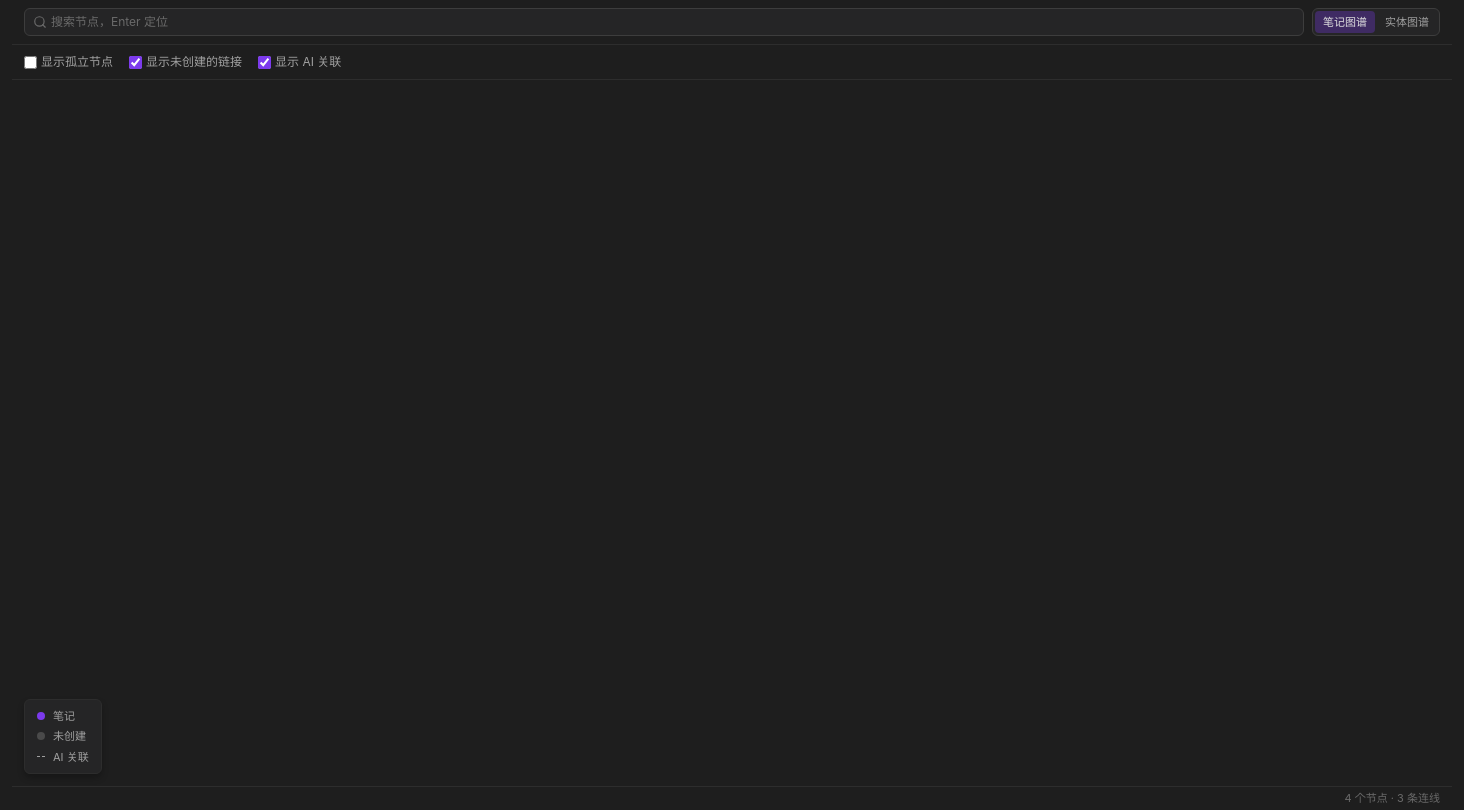
Test: KnowledgeGraph › 全局图谱的筛选开关
Step 1. Click the checkbox labelled "显示 AI 关联" → (264, 62), box 258,56 -> 271,68
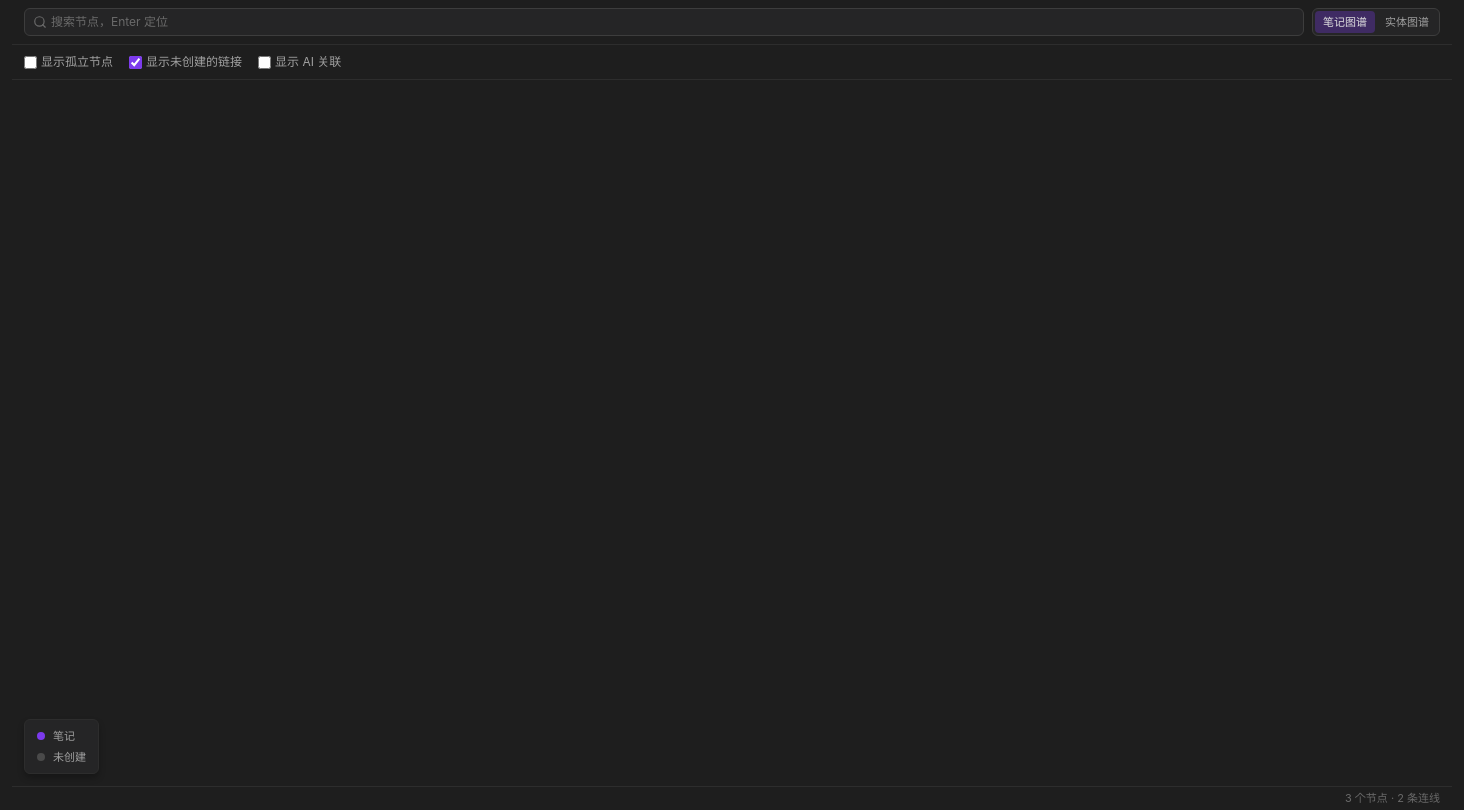
Expected: the text "3 个节点 · 2 条连线" is shown, 1345,790 -> 1440,807
Step 2. Click the checkbox labelled "显示孤立节点" → (30, 62), box 24,56 -> 37,68
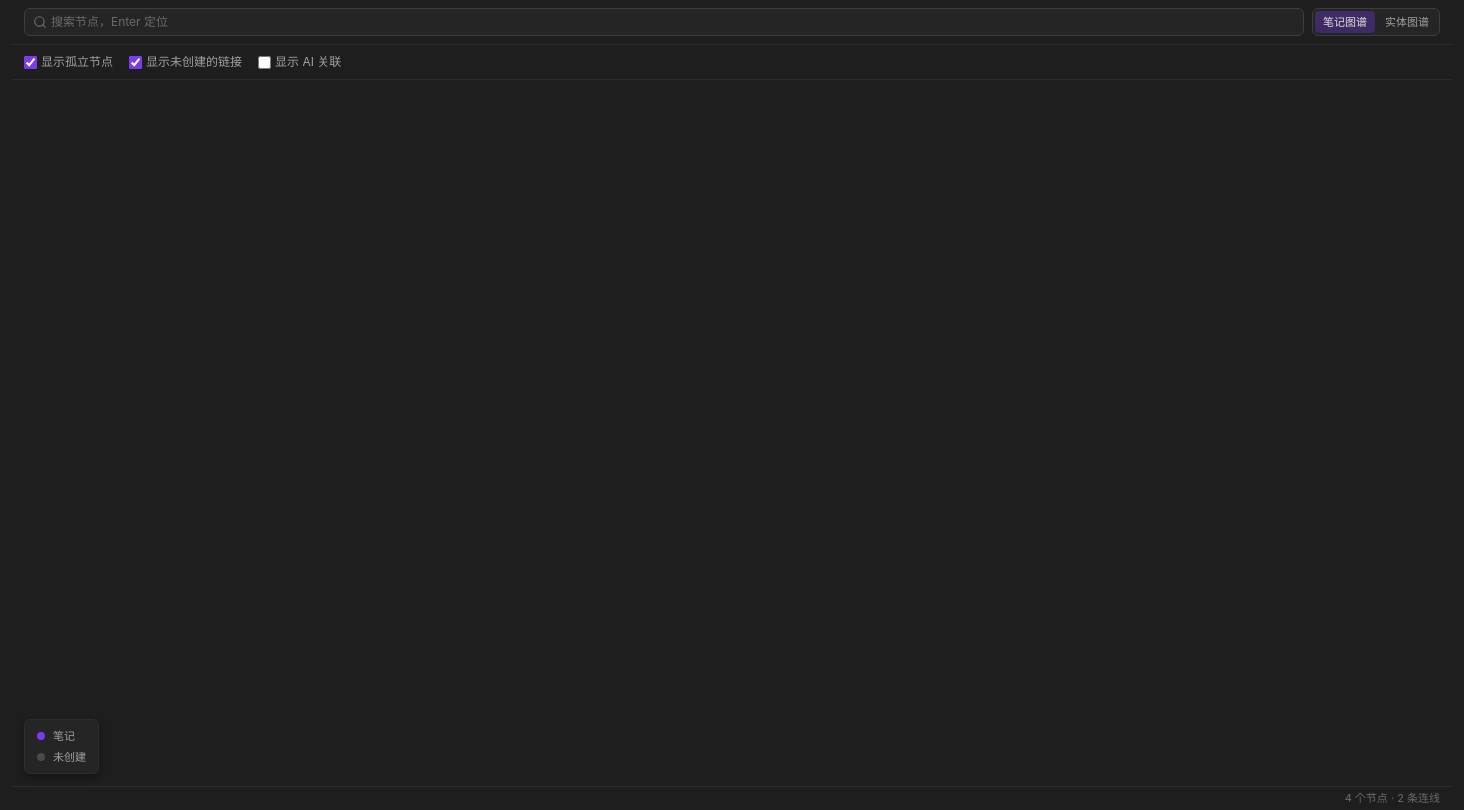
Expected: the text "4 个节点 · 2 条连线" is shown, 1345,790 -> 1440,807
Step 3. Click the checkbox labelled "显示未创建的链接" → (136, 62), box 129,56 -> 142,68
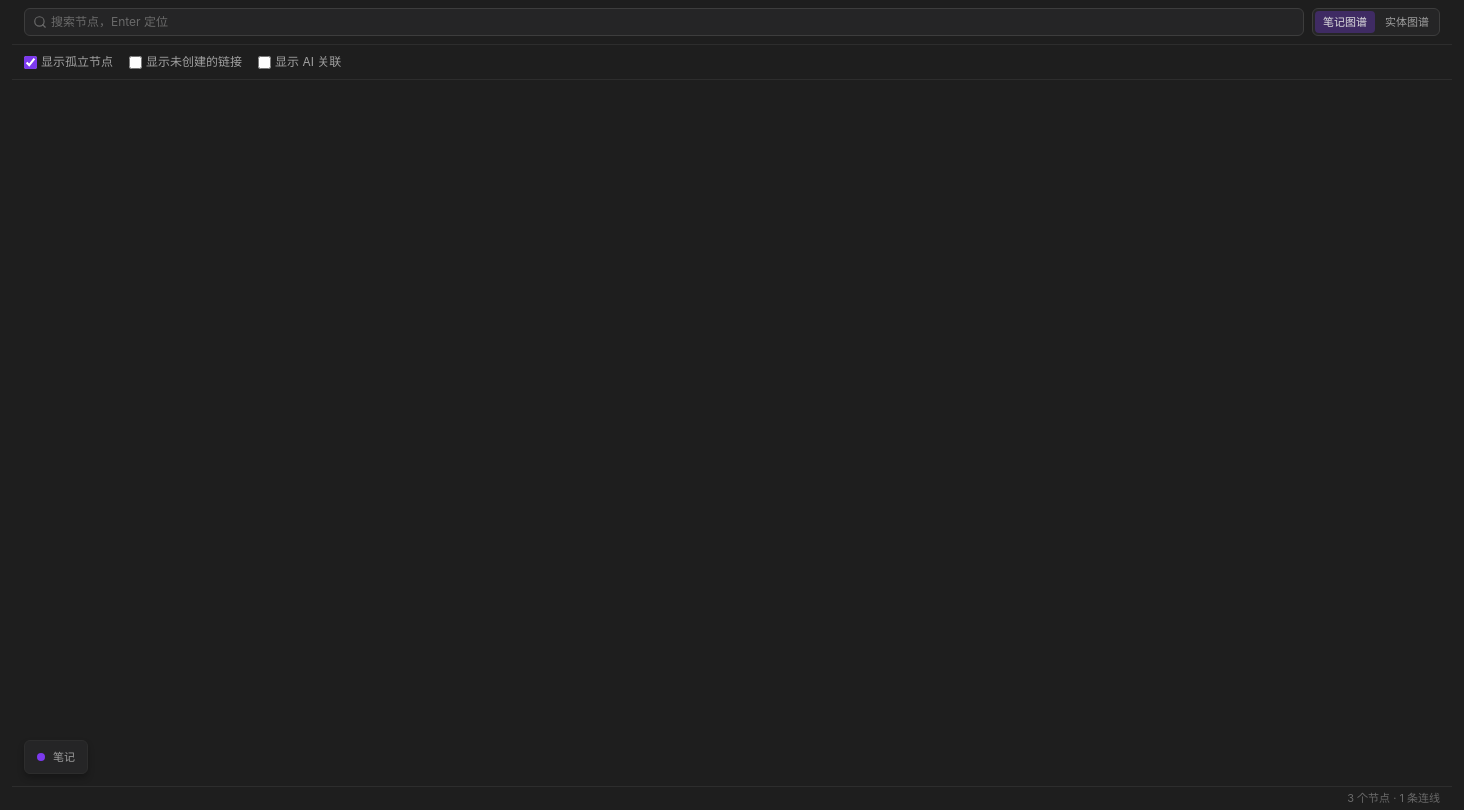
Expected: the text "3 个节点 · 1 条连线" is shown, 1347,790 -> 1440,807
